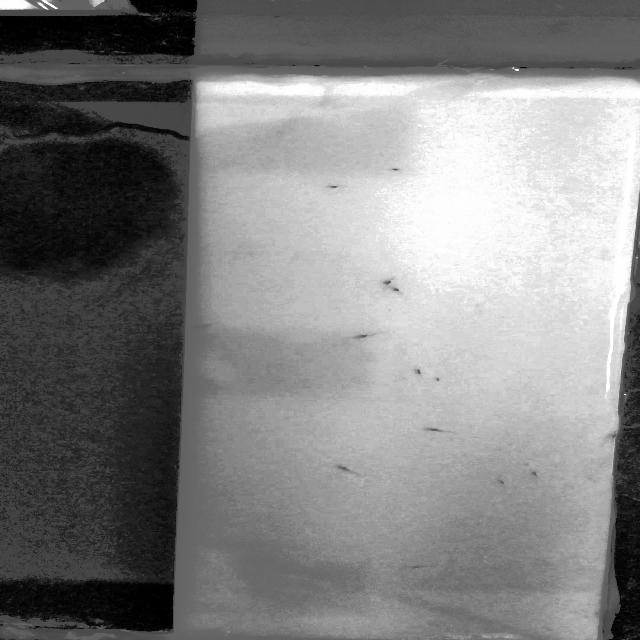shrimp: (316, 178, 356, 196), (382, 162, 408, 183), (412, 424, 457, 436), (326, 464, 368, 476), (352, 332, 379, 343), (524, 470, 555, 479), (189, 324, 228, 330), (411, 364, 426, 379), (493, 478, 512, 488), (384, 286, 408, 293), (382, 276, 399, 285), (408, 562, 422, 572)
